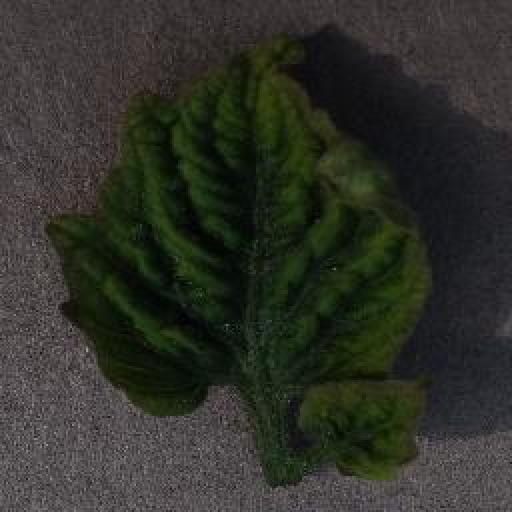disease_tomato: (47, 40, 433, 479)
